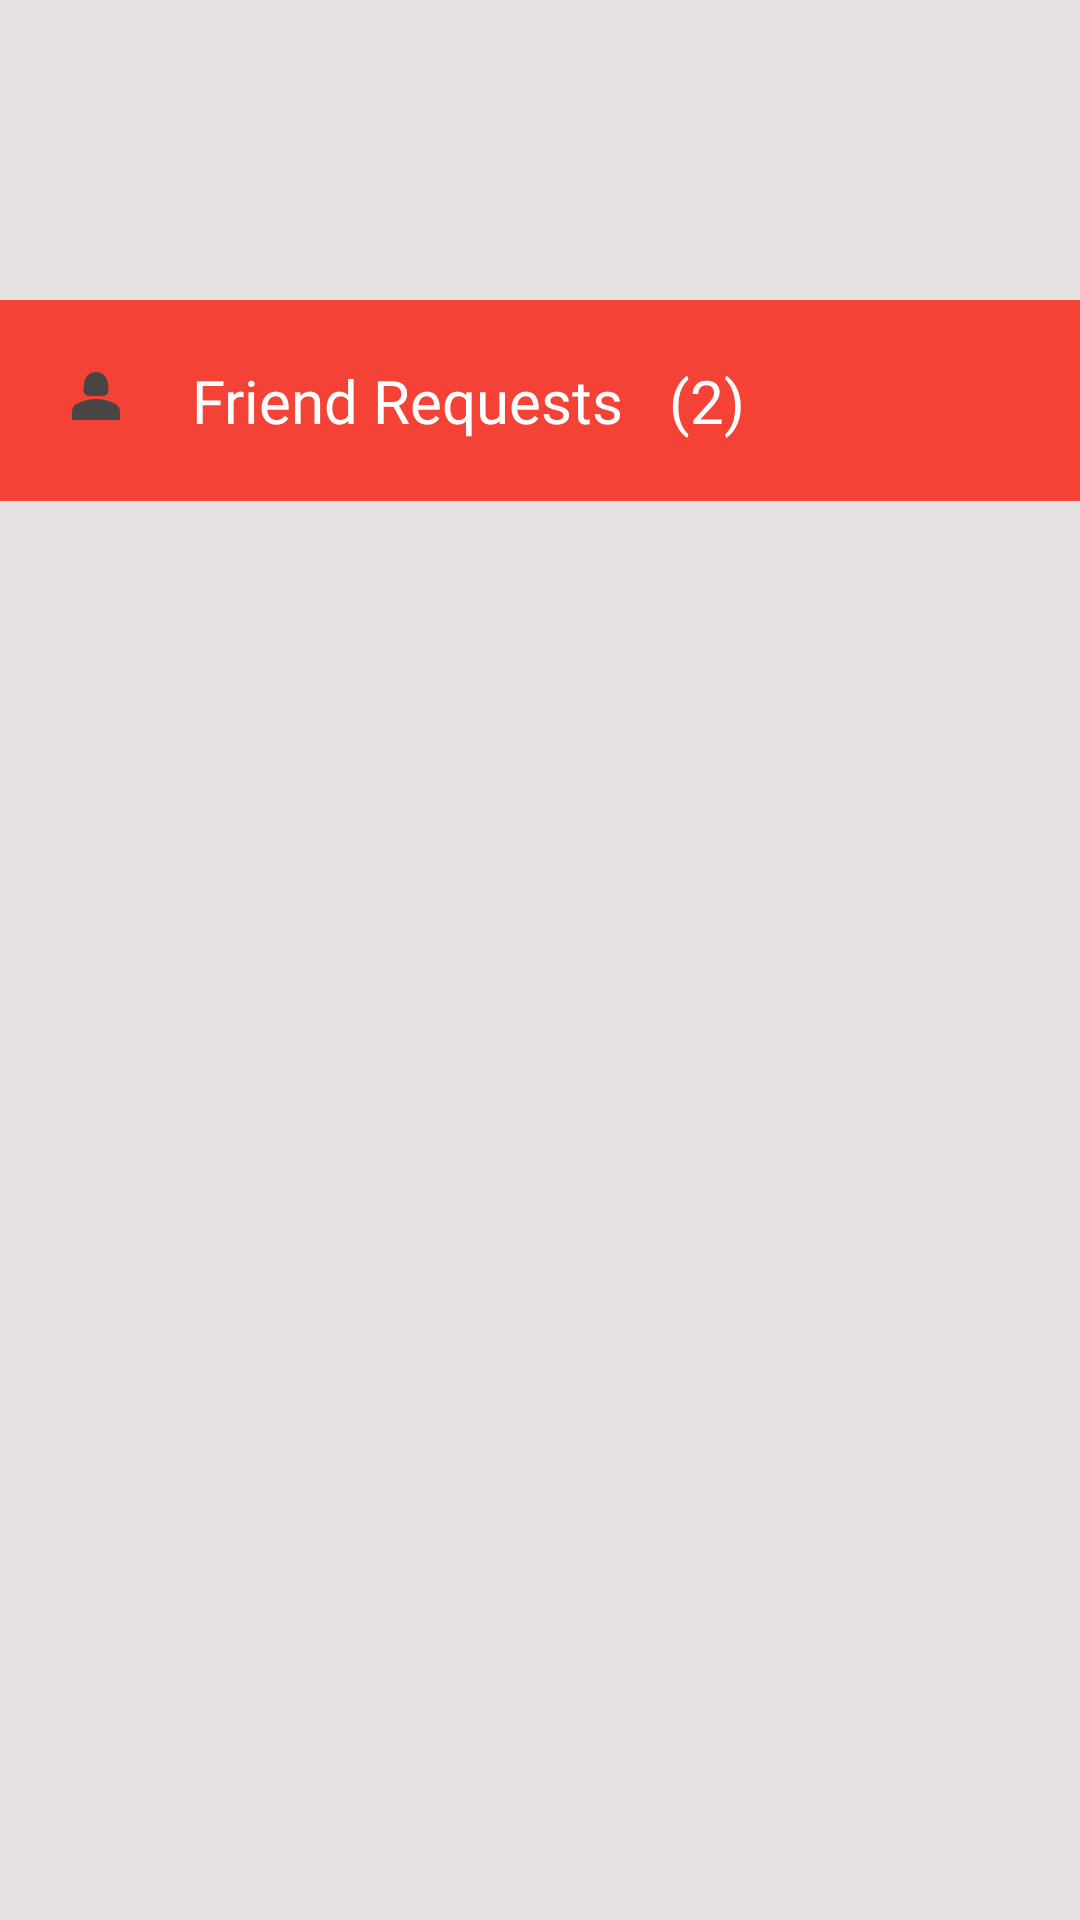

Named icons in this screenshot (1080x1920) and their bounding boxes, (x1, y1, x2, y2):
person: (72, 372, 120, 420)
